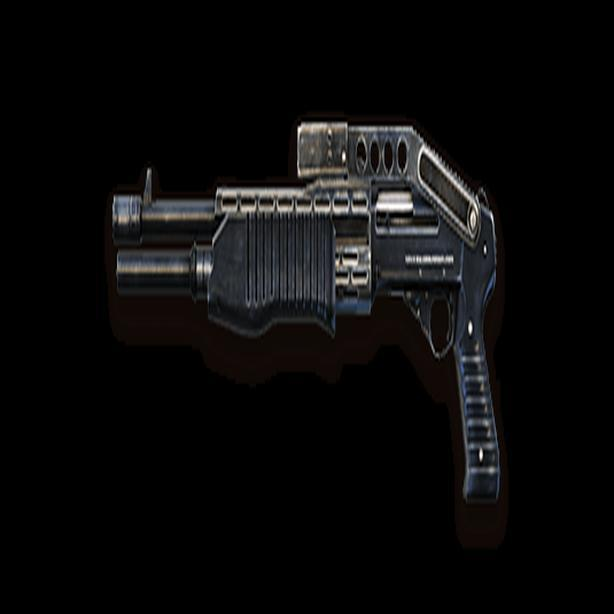Firearm: (92, 95, 539, 509)
